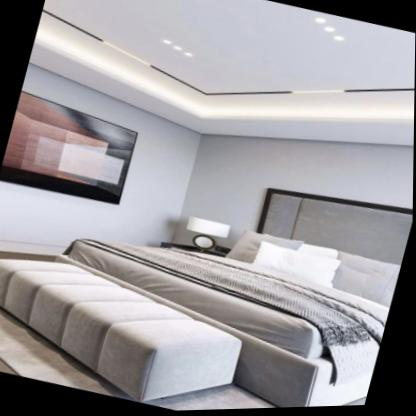Gypsum Board: (19, 0, 416, 197)
